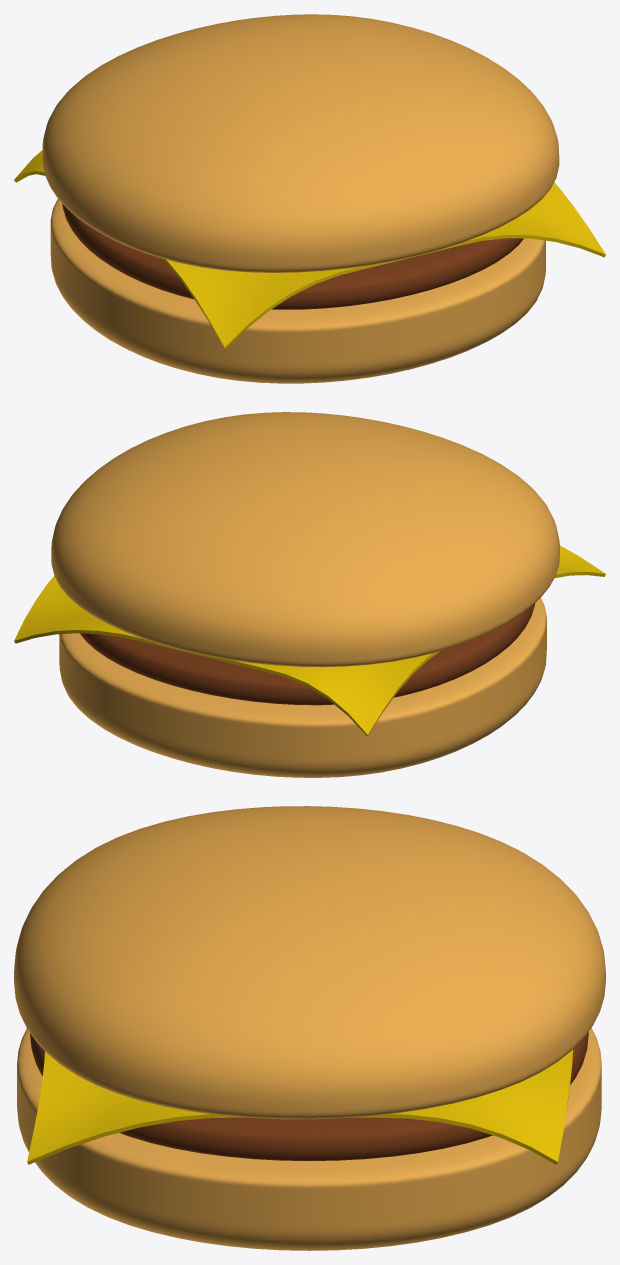
Rendered from hamburger.glb.
3 views of the same model, one above another, from view 1: azimuth 30°, elevation 25°; view 2: azimuth 150°, elevation 25°; view 3: azimuth 270°, elevation 25° (orthographic). The views are drawn at different scales.
Parts seen in each view (by area): view 1: Cube.002, Cube, Plane, Cube.001; view 2: Cube.002, Cube, Cube.001, Plane; view 3: Cube.002, Cube, Plane, Cube.001.
Boxes of the visible parts, bbox=[...] form: Cube.002: bbox=[42, 14, 559, 272]; Cube: bbox=[50, 199, 545, 383]; Plane: bbox=[14, 150, 605, 349]; Cube.001: bbox=[62, 204, 523, 309]; Cube.002: bbox=[51, 412, 559, 667]; Cube: bbox=[59, 598, 546, 777]; Cube.001: bbox=[80, 603, 535, 705]; Plane: bbox=[14, 545, 605, 736]; Cube.002: bbox=[14, 806, 605, 1119]; Cube: bbox=[17, 1028, 601, 1250]; Plane: bbox=[27, 1049, 573, 1164]; Cube.001: bbox=[30, 1032, 588, 1160].
Bounding box in the file's own units: 9.77 × 5.15 × 9.37.
